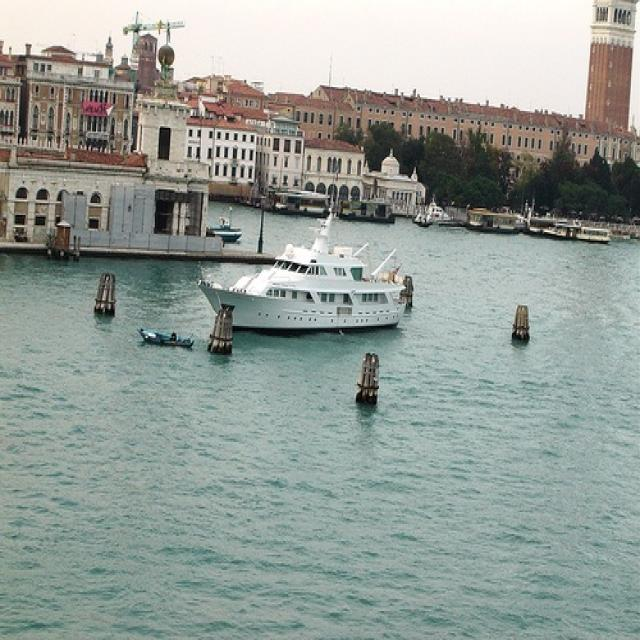boat: (198, 209, 407, 334), (137, 323, 193, 351)
